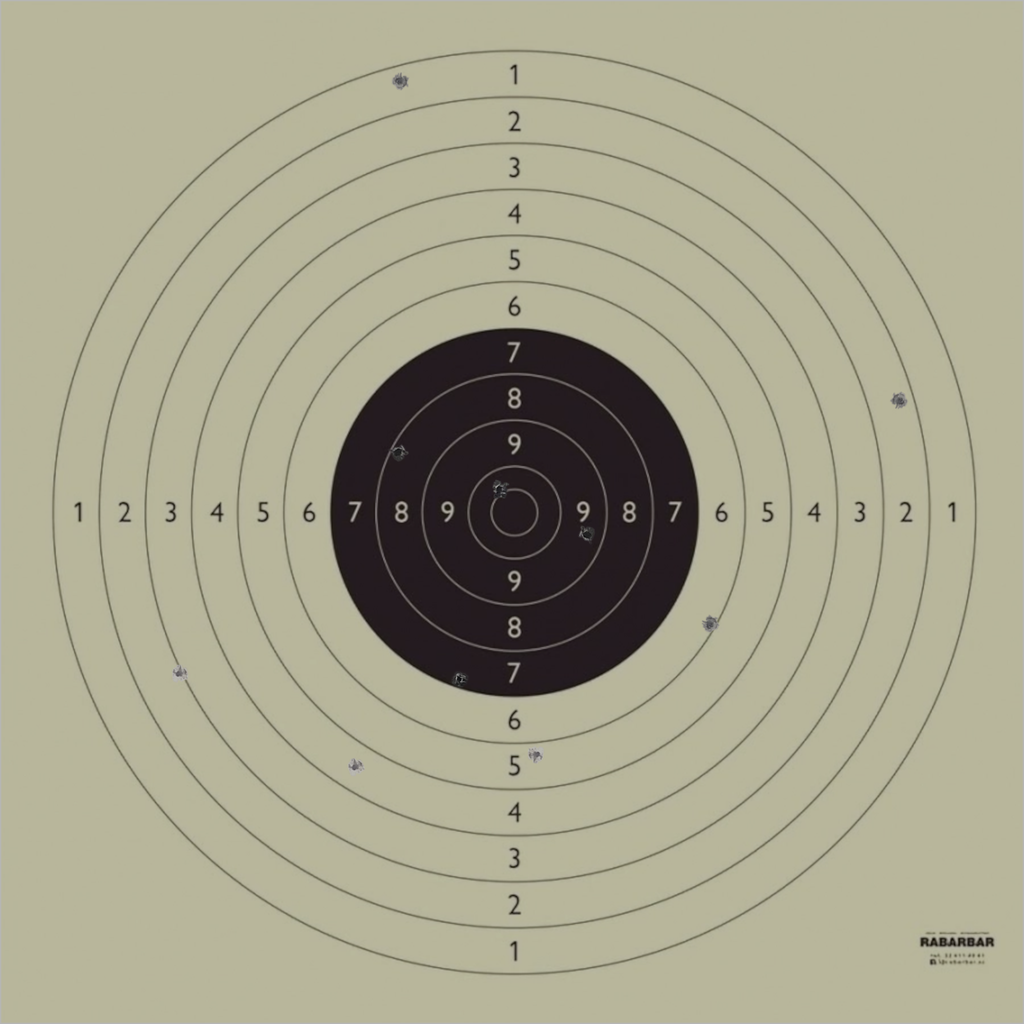0 punktow: (706, 18, 725, 37)
1 punkt: (390, 72, 409, 90)
10 punktow: (490, 481, 509, 499)
2 punkty: (891, 392, 909, 410)
3 punkty: (170, 664, 188, 683)
4 punkty: (346, 758, 364, 776)
5 punktow: (527, 745, 546, 764)
6 punktow: (701, 615, 719, 634)
7 punktow: (450, 670, 468, 688)
8 punktow: (389, 443, 408, 461)
9 punktow: (578, 525, 596, 544)
